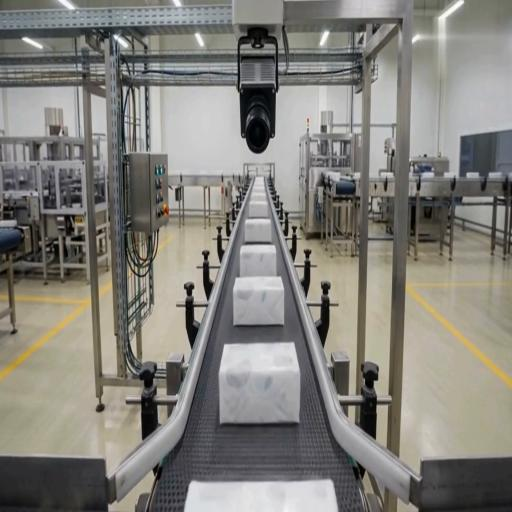good: (218, 341, 299, 426), (185, 476, 337, 511), (232, 276, 286, 328), (239, 244, 277, 277), (244, 217, 274, 244), (248, 197, 269, 219), (249, 184, 268, 202)
